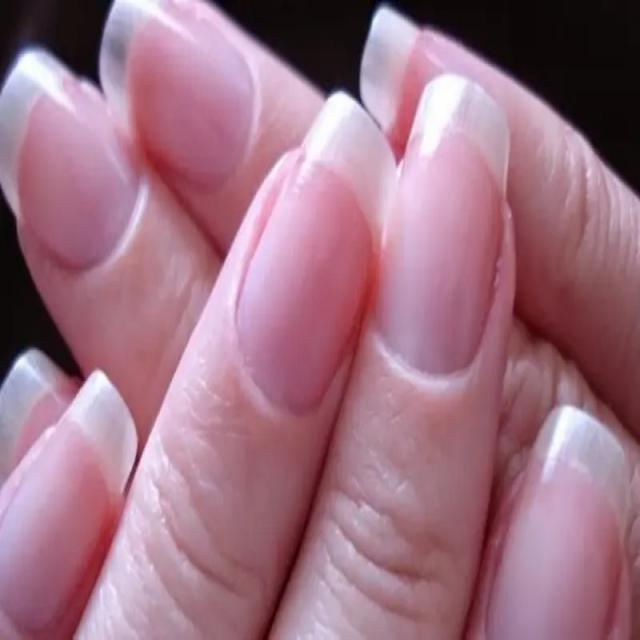sehat: (235, 158, 372, 412), (376, 136, 501, 376), (17, 74, 142, 267)
